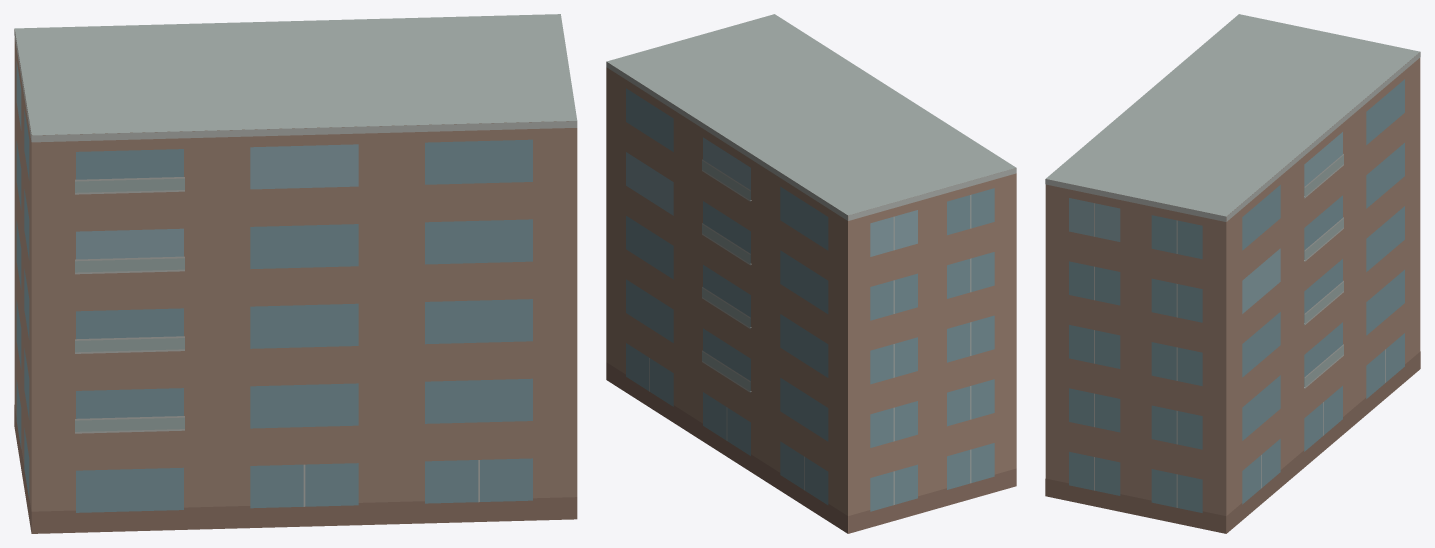
File: survey-upis-32845390.glb
3 views of the same model, side by side, from view 1: azimuth 30°, elevation 25°; view 2: azimuth 150°, elevation 25°; view 3: azimuth 270°, elevation 25° (orthographic). The views are drawn at different scales.
Parts seen in each view (by area): view 1: survey-upis-32845390.tmp; view 2: survey-upis-32845390.tmp; view 3: survey-upis-32845390.tmp.
Boxes of the visible parts, left/top/right/bottom form: survey-upis-32845390.tmp: left=14, top=14, right=577, bottom=533; survey-upis-32845390.tmp: left=606, top=14, right=1016, bottom=533; survey-upis-32845390.tmp: left=1045, top=14, right=1420, bottom=533.
Size of the model in its own units: 19.04 by 13.9 by 14.9.
